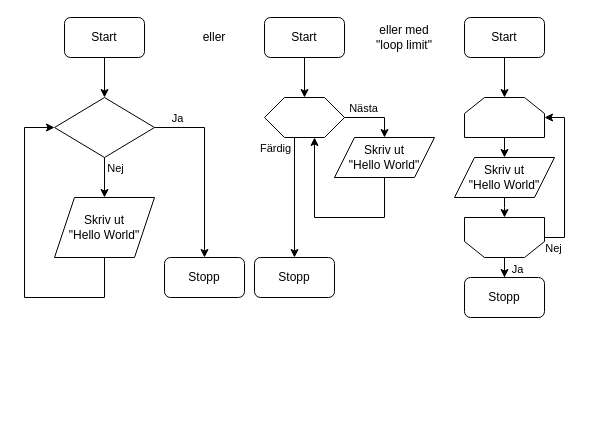
The diagram is 590 pixels wide and 435 high, and some of its shapes have lost their labels. Here are the shapes that lost their labels. From the top down, the centre of each, then its label:
[104,127]: Loopat 5 ggr?
[304,117]: for k = 0...4
[504,117]: for k = 0...5
[504,237]: Färdig?
